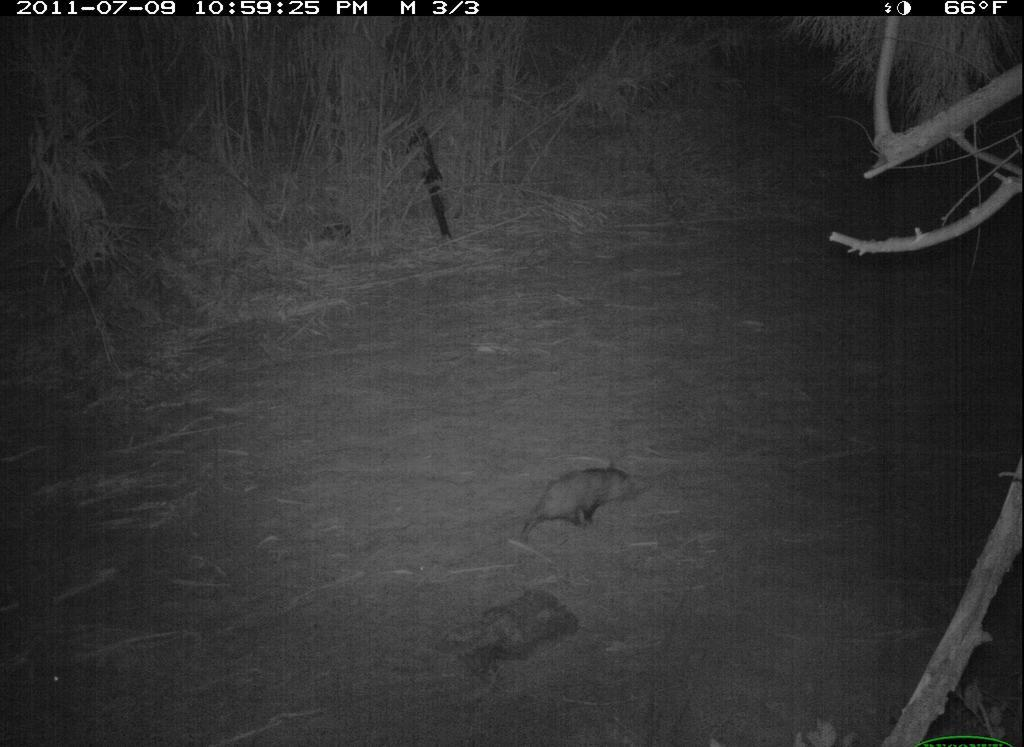opossum: (496, 451, 657, 564)
